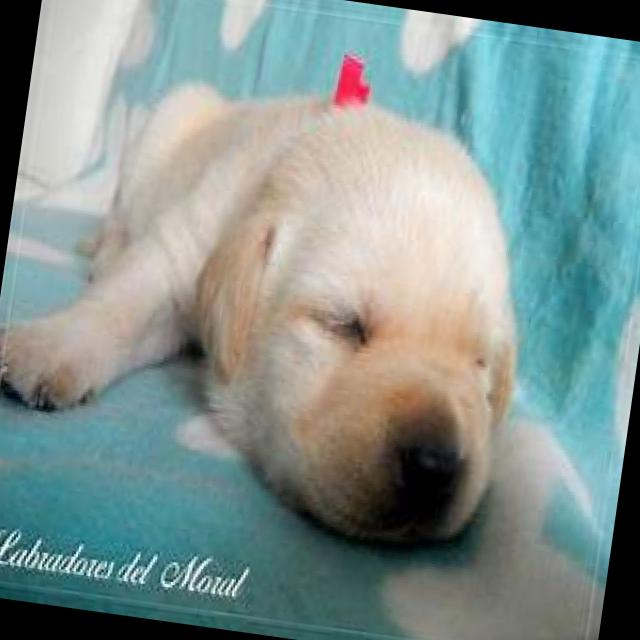dog: (0, 0, 556, 566)
